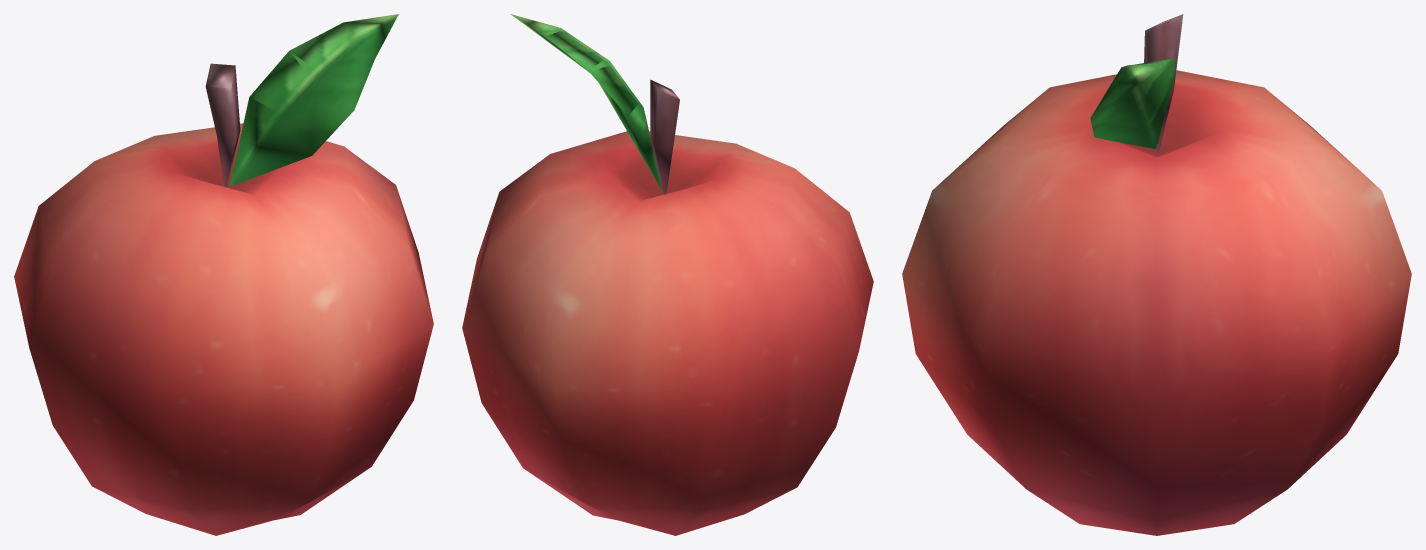
File: artifact_goldenapple.fbx
3 views of the same model, side by side, from view 1: azimuth 30°, elevation 25°; view 2: azimuth 150°, elevation 25°; view 3: azimuth 270°, elevation 25° (orthographic). The views are drawn at different scales.
Visible parts, largest first — view 1: artifact_goldenapple; view 2: artifact_goldenapple; view 3: artifact_goldenapple.
Part boxes in pixels (x1,y1,x2,y2): artifact_goldenapple: [14, 14, 433, 535]; artifact_goldenapple: [462, 14, 873, 535]; artifact_goldenapple: [902, 14, 1411, 535].
Size of the model in its own units: 23.75 by 26.28 by 23.76.
